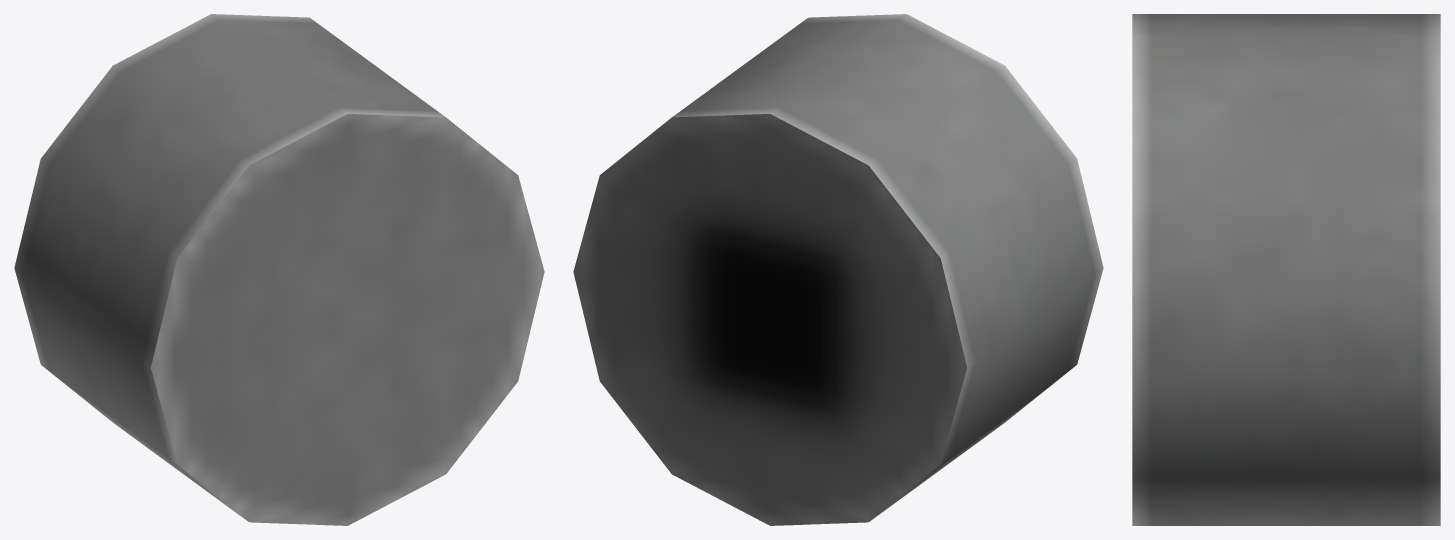
The model's file is samplerot.obj.
The picture shows the model from 3 angles, left to right: view 1: azimuth 30°, elevation 25°; view 2: azimuth 150°, elevation 25°; view 3: azimuth 270°, elevation 25°; orthographic projection. The views are drawn at different scales.
Visible parts, largest first — view 1: rot1; view 2: rot1; view 3: rot1.
Part boxes in pixels (<box>): rot1: <box>14,14,544,525</box>; rot1: <box>573,14,1103,525</box>; rot1: <box>1132,14,1440,525</box>.
Size of the model in its own units: 0.125 by 0.125 by 0.075.
Materials: 1 (1 with a texture image).
